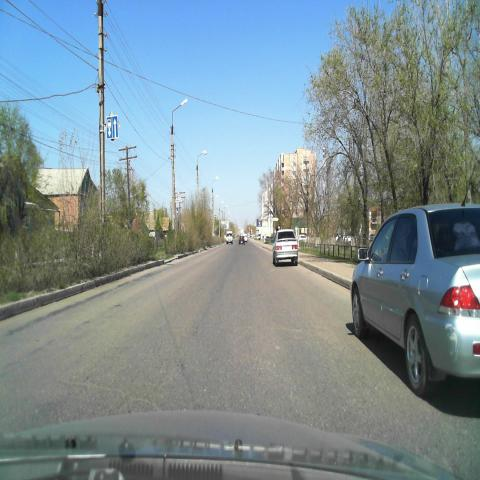5_11: (106, 114, 120, 140)
